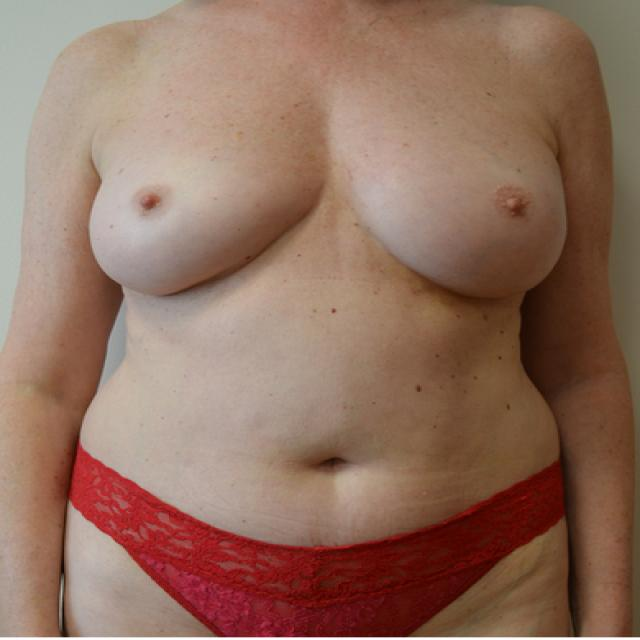Seno ileso: (83, 113, 332, 311), (335, 114, 573, 314)
